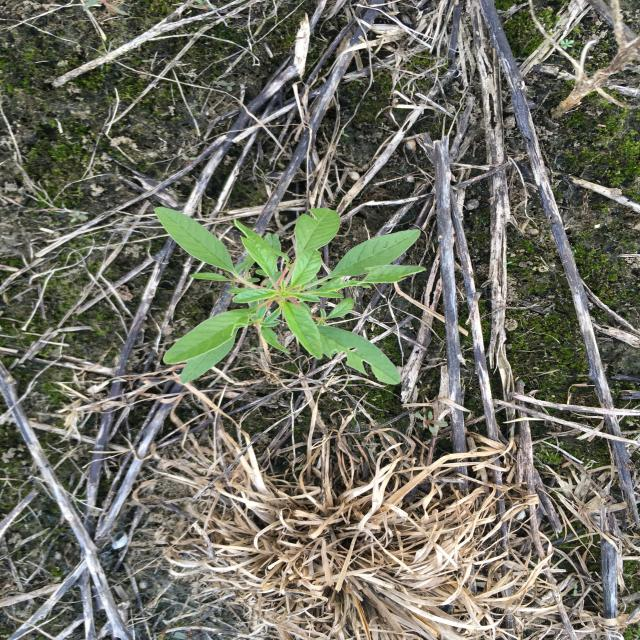Waterhemp: (152, 206, 430, 387)
